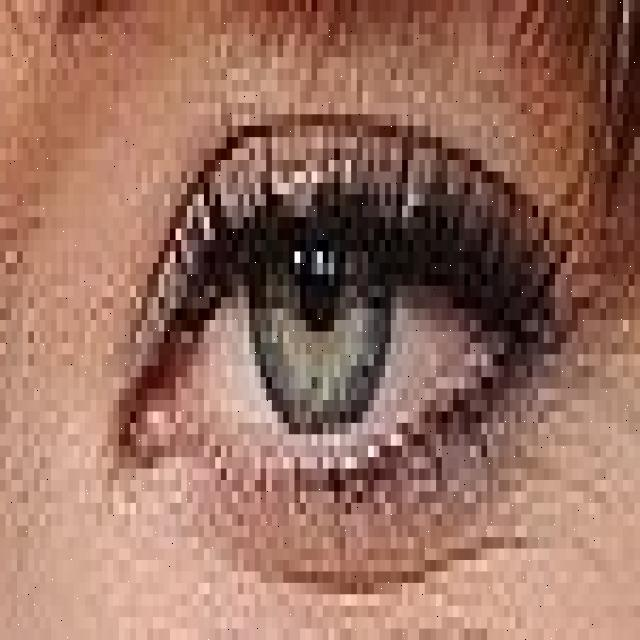Normal: (251, 179, 390, 436)
